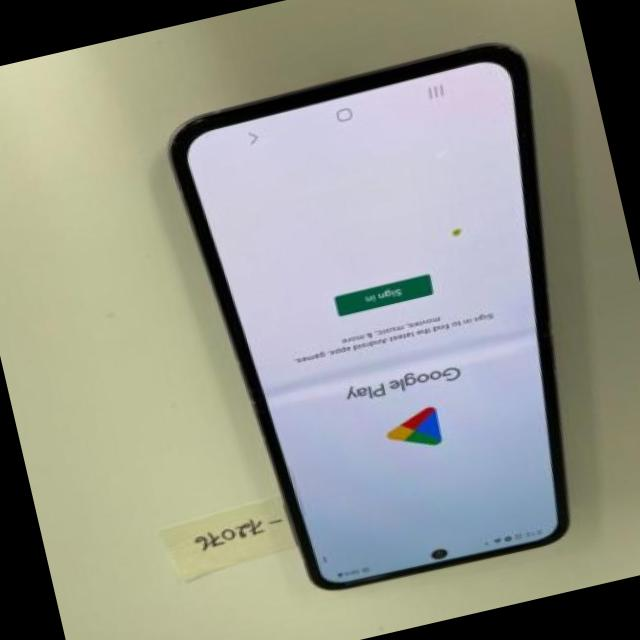dead pixel: (422, 204, 484, 262)
